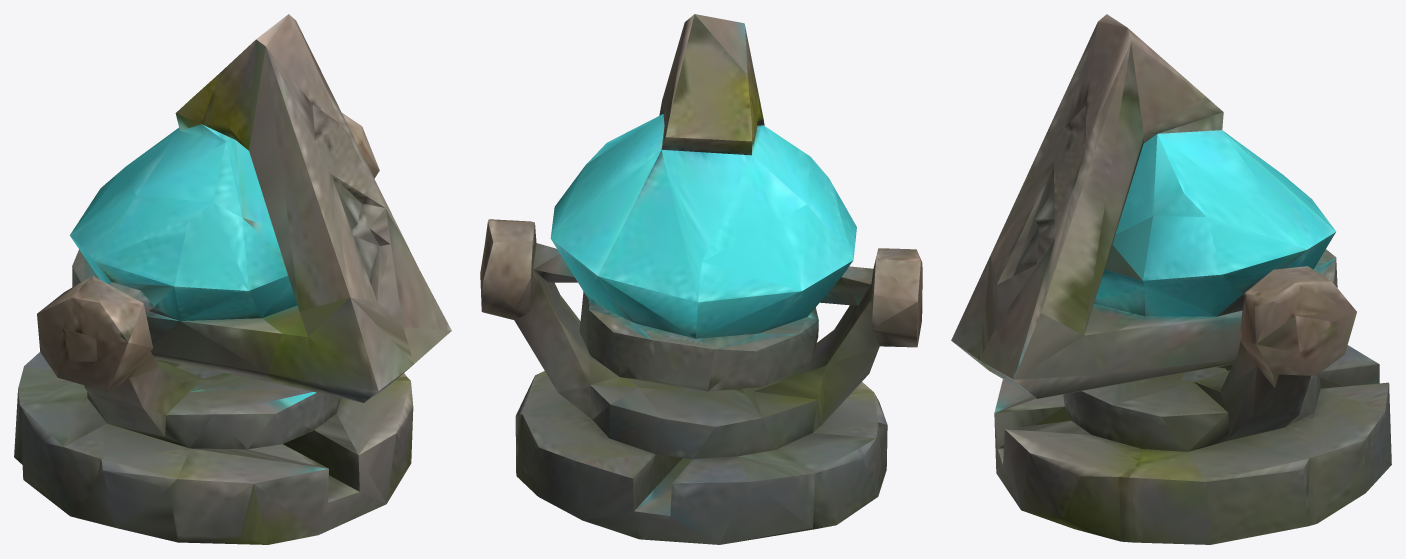
File: prisma_orientable_600.glb
3 renders of one model, left to right at view 1: azimuth 30°, elevation 25°; view 2: azimuth 150°, elevation 25°; view 3: azimuth 270°, elevation 25°, orthographic. The views are drawn at different scales.
Parts seen in each view (by area): view 1: prisma_orientable_malla; view 2: prisma_orientable_malla; view 3: prisma_orientable_malla.
Part boxes in pixels (left/top/right/bottom): prisma_orientable_malla: left=14, top=14, right=451, bottom=544; prisma_orientable_malla: left=480, top=14, right=922, bottom=544; prisma_orientable_malla: left=951, top=14, right=1391, bottom=544.
Size of the model in its own units: 0.3008 by 0.3327 by 0.2869.
Materials: 1 (1 with a texture image).
